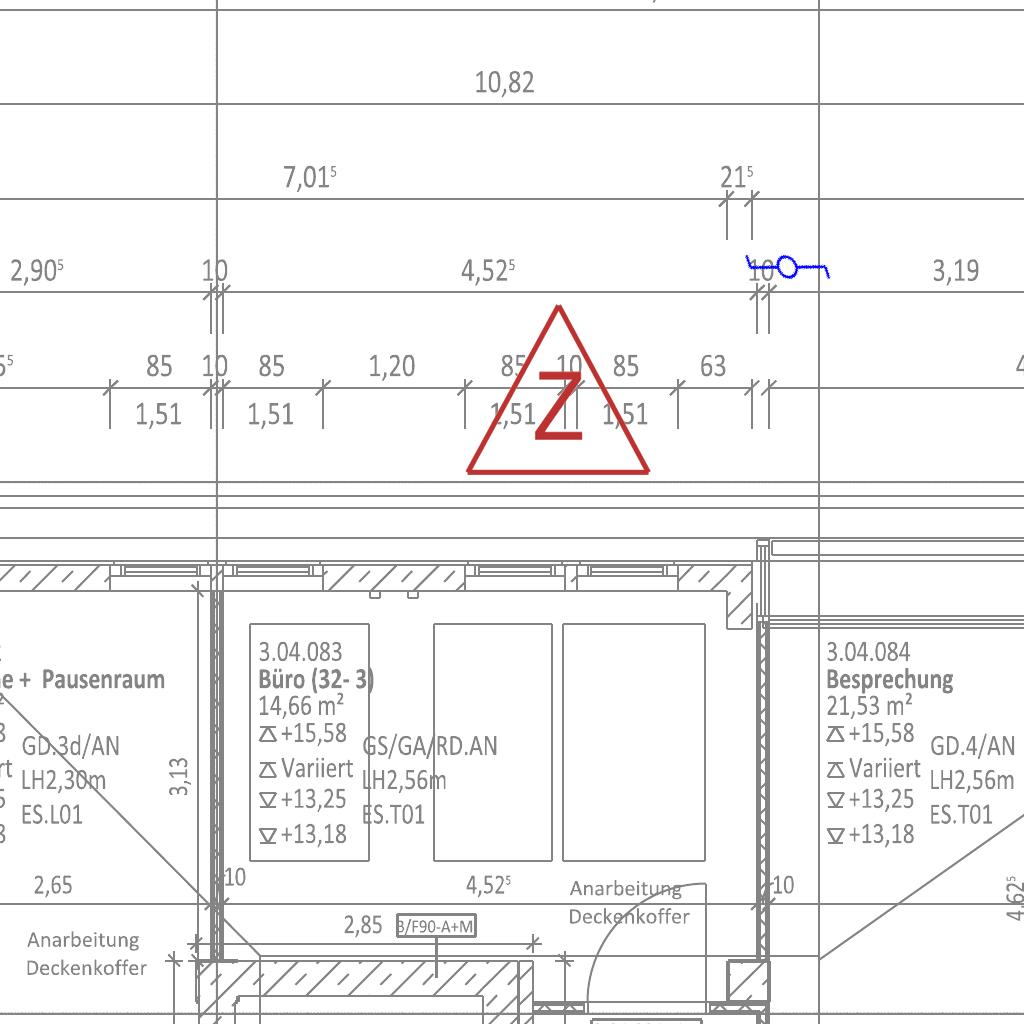Wechselschalter: (734, 210, 838, 316)
Zimmersignalleuchte: (458, 290, 654, 490)
